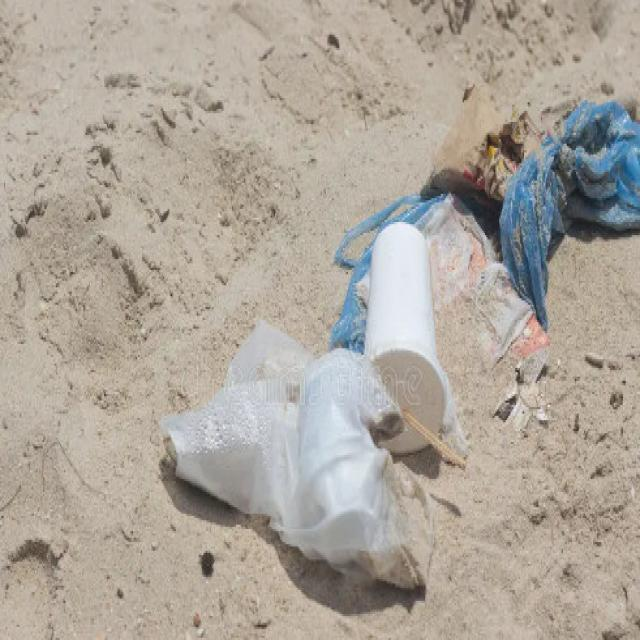leaf: (160, 309, 433, 592), (352, 186, 468, 476)
metal: (498, 92, 640, 330)
trash: (430, 52, 546, 238)
